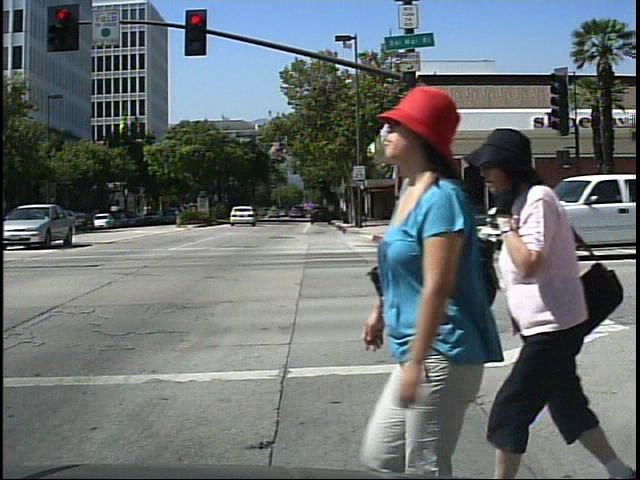person: (347, 66, 511, 479), (480, 117, 615, 480)
